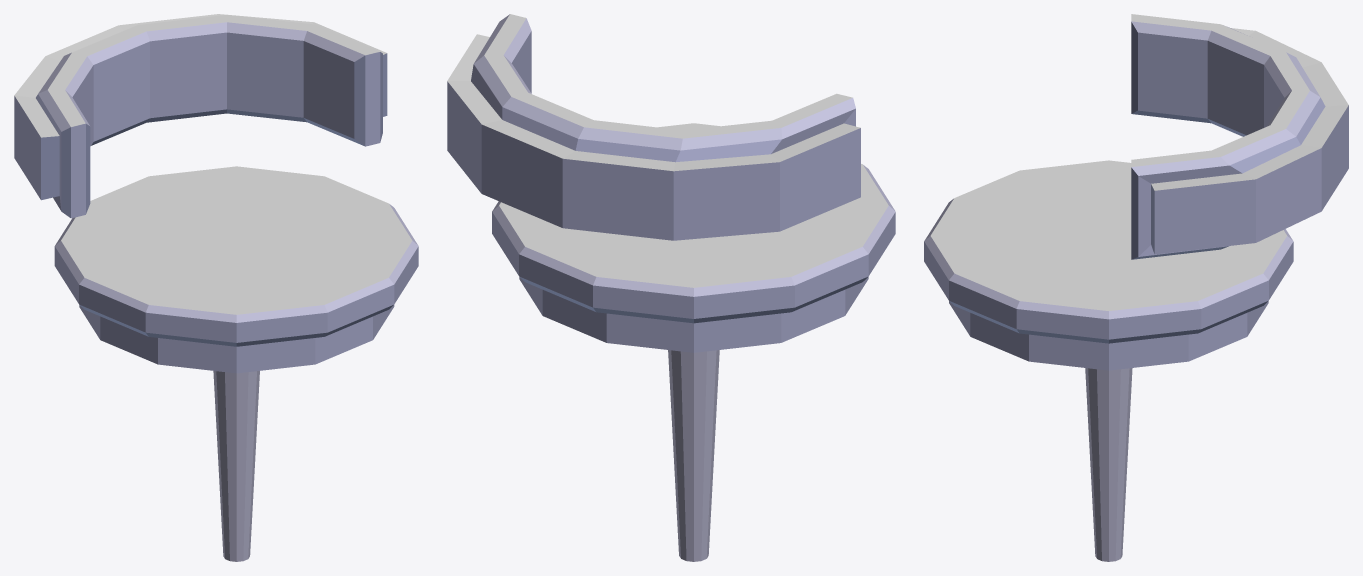
Rendered from Prop_Stool_01.fbx.
3 renders of one model, left to right at view 1: azimuth 30°, elevation 25°; view 2: azimuth 150°, elevation 25°; view 3: azimuth 270°, elevation 25°, orthographic. The views are drawn at different scales.
Parts seen in each view (by area): view 1: Stool; view 2: Stool; view 3: Stool.
Boxes of the visible parts, x1,y1,x2,y2 form: Stool: (14, 14, 418, 561); Stool: (447, 14, 895, 561); Stool: (924, 14, 1348, 561).
Size of the model in its own units: 233 by 295 by 244.
